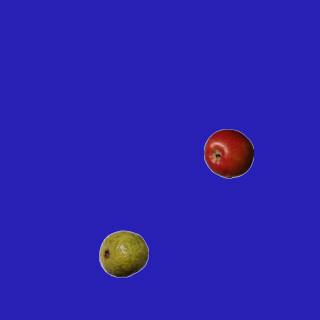Apple Braeburn: (203, 128, 253, 178)
Guava: (98, 228, 148, 278)
